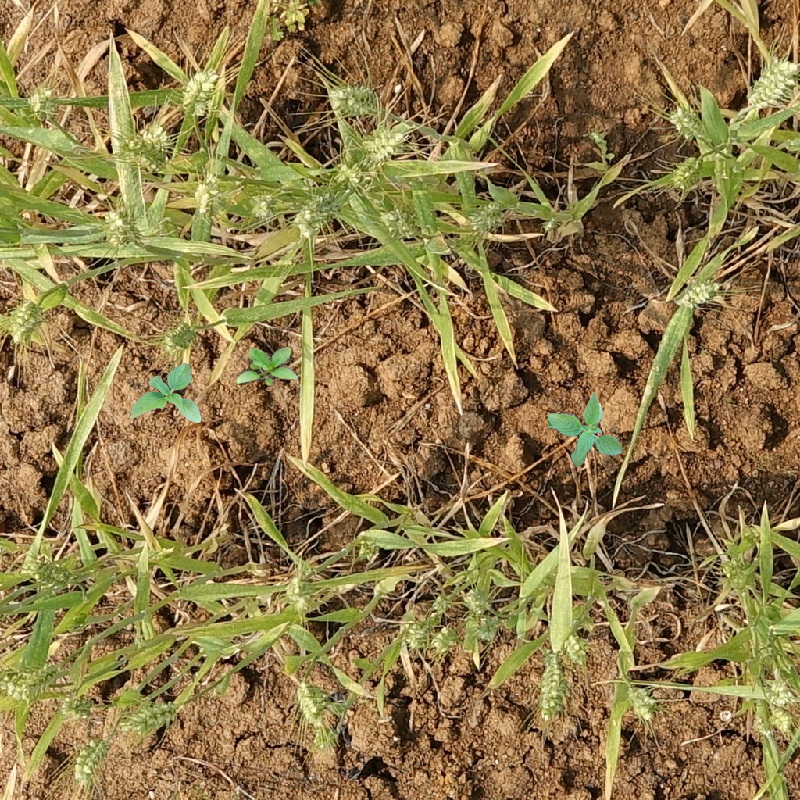spikelet: (744, 57, 799, 110), (1, 659, 59, 700), (536, 649, 566, 721), (293, 188, 335, 238), (119, 699, 177, 734), (130, 122, 171, 171), (180, 66, 219, 115), (5, 296, 45, 343), (327, 82, 379, 117), (26, 554, 73, 591), (71, 738, 107, 785), (359, 125, 405, 161), (294, 678, 328, 725), (378, 204, 421, 241), (718, 553, 757, 593), (677, 275, 721, 308), (192, 172, 225, 216), (101, 208, 138, 247), (159, 318, 198, 355), (466, 198, 506, 233), (667, 104, 705, 140), (624, 682, 658, 721), (25, 83, 60, 120), (285, 572, 318, 611), (668, 155, 702, 191), (760, 677, 794, 708), (60, 690, 94, 721), (248, 189, 278, 224), (332, 160, 365, 190), (562, 632, 590, 666), (461, 586, 492, 614), (401, 618, 429, 649), (473, 613, 501, 643), (430, 625, 459, 653), (767, 705, 795, 733), (583, 123, 611, 151), (355, 534, 380, 563)
weed: (548, 392, 623, 467), (131, 363, 202, 423), (236, 346, 299, 387), (261, 1, 312, 43)
